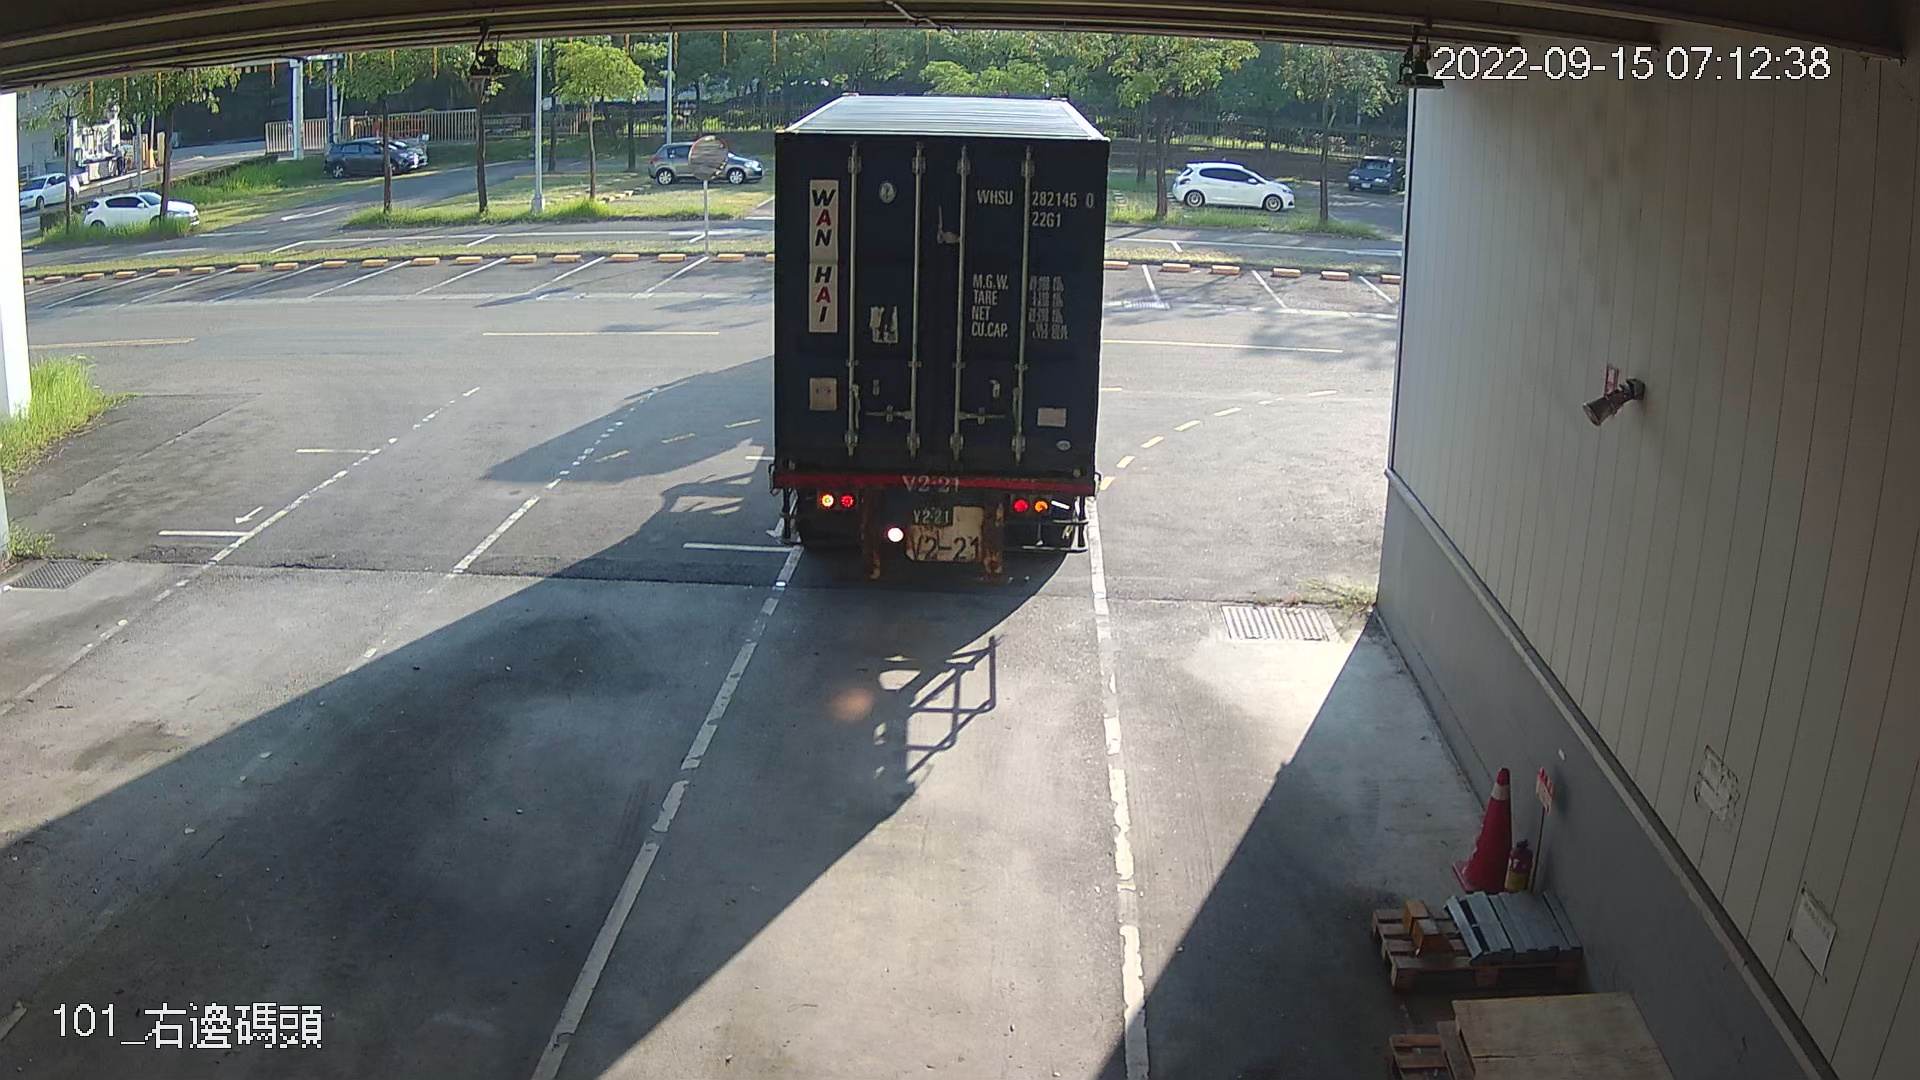container: (971, 179, 1100, 229)
